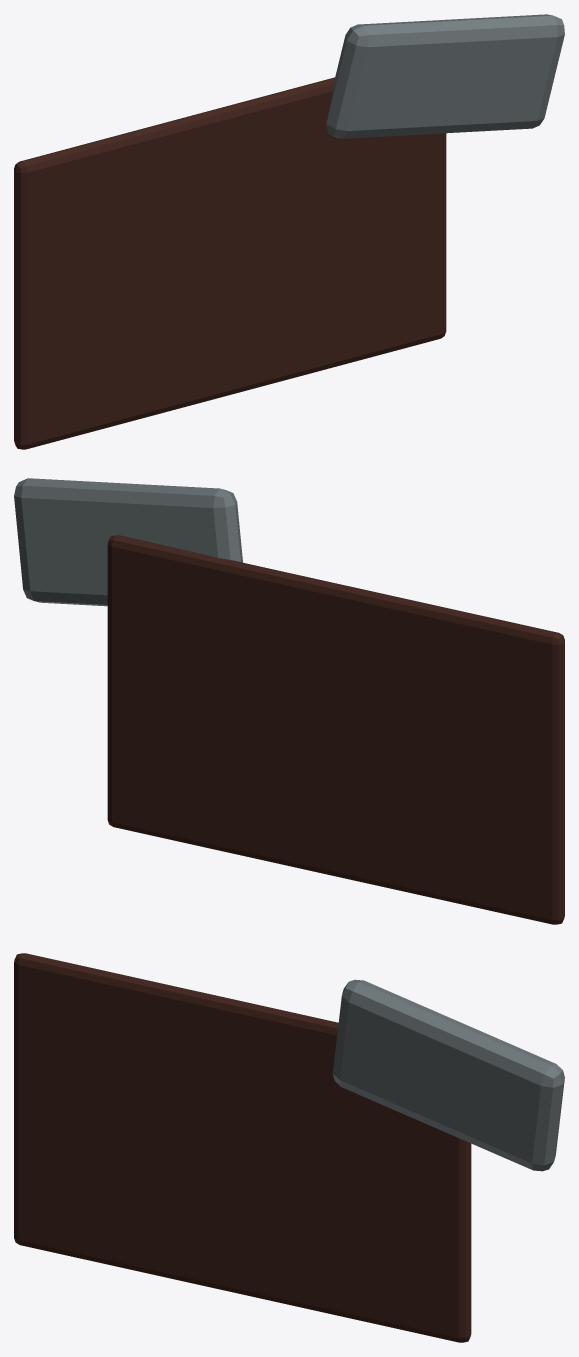
Rendered from Damage_ScorchedPanel_R.glb.
3 views of the same model, one above another, from view 1: azimuth 30°, elevation 25°; view 2: azimuth 150°, elevation 25°; view 3: azimuth 330°, elevation 25° (orthographic).
Visible parts, largest first — view 1: Damage_ScorchedPanel_R, Damage_ScorchedPanel_R_Warp; view 2: Damage_ScorchedPanel_R, Damage_ScorchedPanel_R_Warp; view 3: Damage_ScorchedPanel_R, Damage_ScorchedPanel_R_Warp.
Part boxes in pixels (x1,y1,x2,y2): Damage_ScorchedPanel_R: (14, 77, 446, 449); Damage_ScorchedPanel_R_Warp: (326, 14, 564, 138); Damage_ScorchedPanel_R: (107, 535, 564, 924); Damage_ScorchedPanel_R_Warp: (14, 478, 242, 606); Damage_ScorchedPanel_R: (14, 953, 471, 1342); Damage_ScorchedPanel_R_Warp: (332, 979, 564, 1171).
Size of the model in its own units: 0.9898 by 0.599 by 0.0812.
